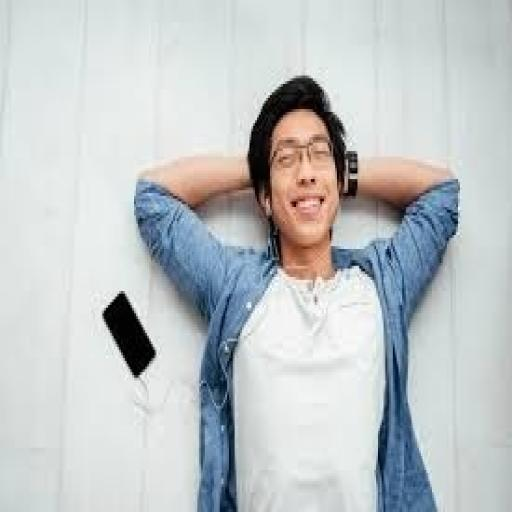listening_to_music: (132, 73, 464, 509)
